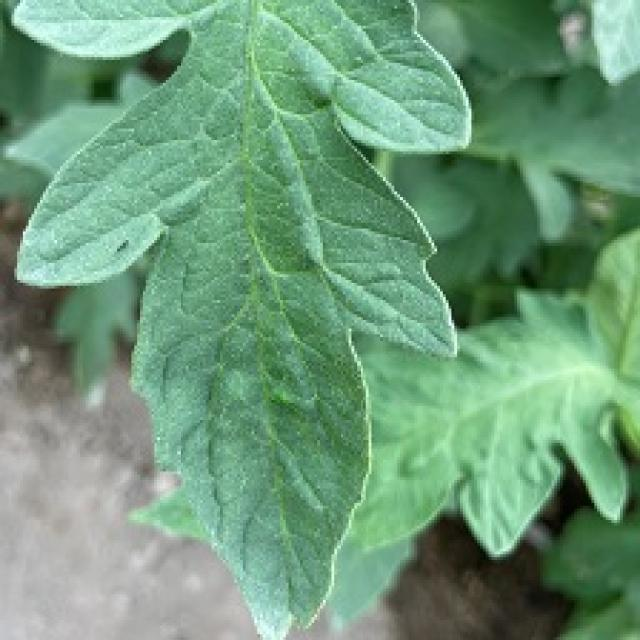Healthy: (14, 0, 471, 640)
